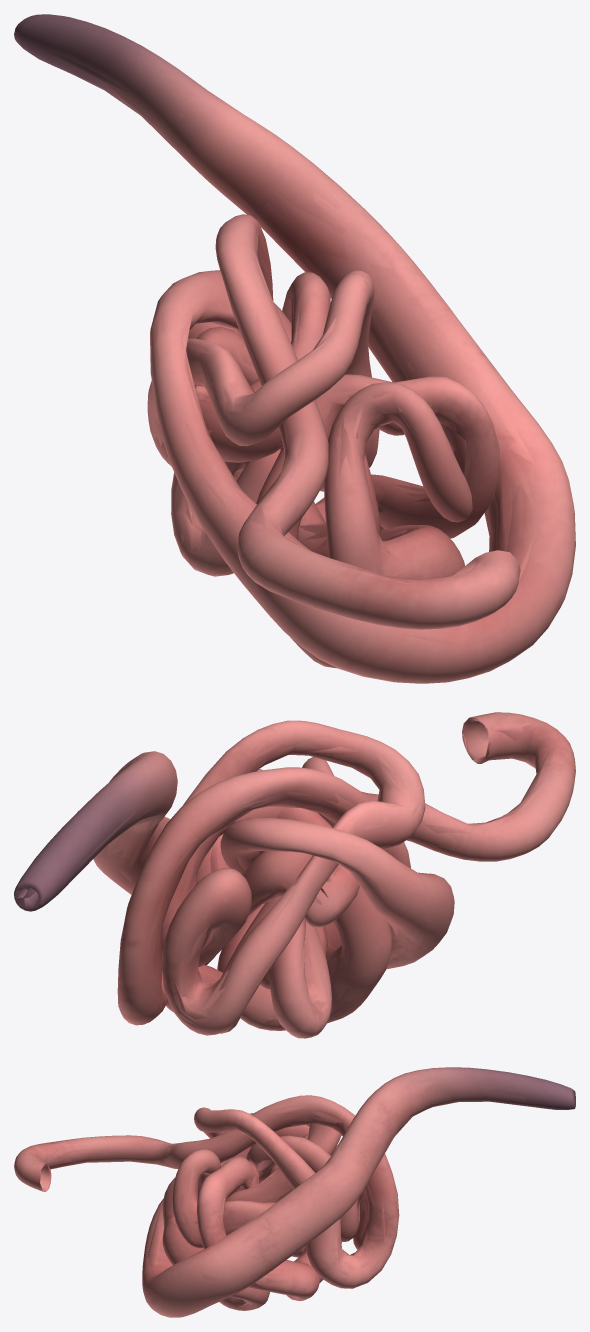
The model's file is Instestines.fbx.
The picture shows the model from 3 angles, top to bottom: view 1: azimuth 30°, elevation 25°; view 2: azimuth 150°, elevation 25°; view 3: azimuth 270°, elevation 25°; orthographic projection. The views are drawn at different scales.
Visible parts, largest first — view 1: Instestines high, Instestines, Instestines low; view 2: Instestines high, Instestines, Instestines low; view 3: Instestines high, Instestines, Instestines low.
Boxes of the visible parts, x1=… form: Instestines high: x1=14, y1=14, x2=575, y2=683; Instestines: x1=32, y1=43, x2=574, y2=682; Instestines low: x1=46, y1=61, x2=539, y2=646; Instestines high: x1=14, y1=712, x2=575, y2=1038; Instestines: x1=15, y1=712, x2=575, y2=1037; Instestines low: x1=15, y1=714, x2=559, y2=1024; Instestines high: x1=14, y1=1067, x2=575, y2=1317; Instestines: x1=14, y1=1074, x2=575, y2=1316; Instestines low: x1=28, y1=1079, x2=575, y2=1305.
Bounding box in the file's own units: 6.95 × 7.61 × 16.22.
1 material, 1 textured.
